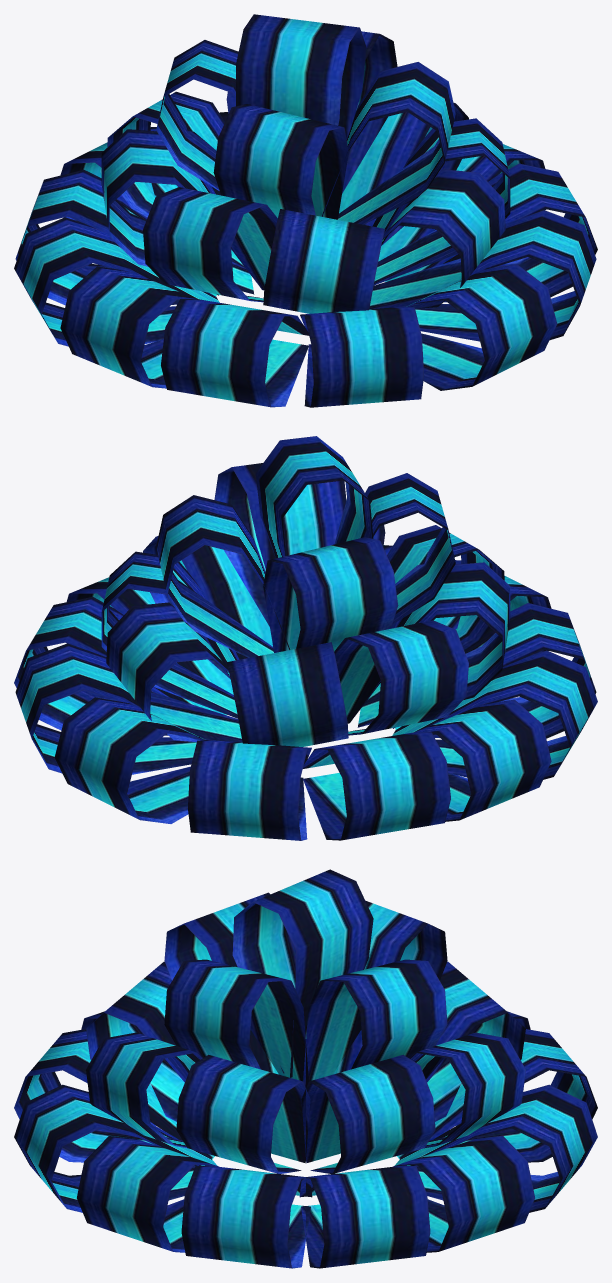
3 views of the same model, one above another, from view 1: azimuth 30°, elevation 25°; view 2: azimuth 150°, elevation 25°; view 3: azimuth 270°, elevation 25° (orthographic).
Parts seen in each view (by area): view 1: smMAT0110029; view 2: smMAT0110029; view 3: smMAT0110029.
Part boxes in pixels (x1=…): smMAT0110029: x1=14, y1=14, x2=597, y2=407; smMAT0110029: x1=14, y1=436, x2=597, y2=840; smMAT0110029: x1=14, y1=869, x2=597, y2=1268.
Bounding box in the file's own units: 31.93 × 16.77 × 32.23.
1 material, 1 textured.
